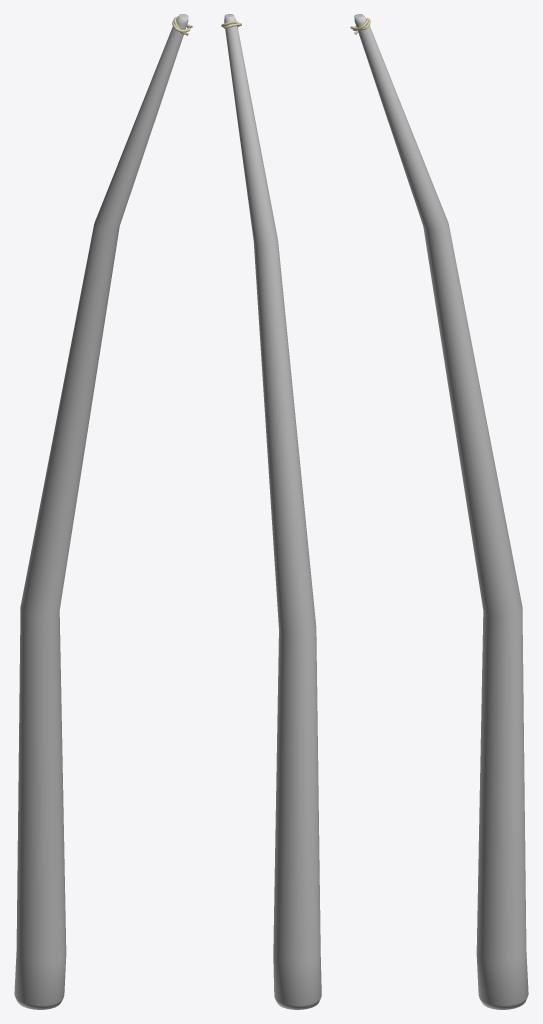
The model's file is Rod1.fbx.
3 renders of one model, left to right at view 1: azimuth 90°, elevation 25°; view 2: azimuth 210°, elevation 25°; view 3: azimuth 270°, elevation 25°, orthographic. The views are drawn at different scales.
Visible parts, largest first — view 1: BézierCurve.001; view 2: BézierCurve.001; view 3: BézierCurve.001.
Boxes of the visible parts, left/top/right/bottom form: BézierCurve.001: left=14, top=14, right=192, bottom=1009; BézierCurve.001: left=221, top=14, right=321, bottom=1009; BézierCurve.001: left=350, top=14, right=528, bottom=1009.
Bounding box in the file's own units: 31.14 × 677 × 111.
